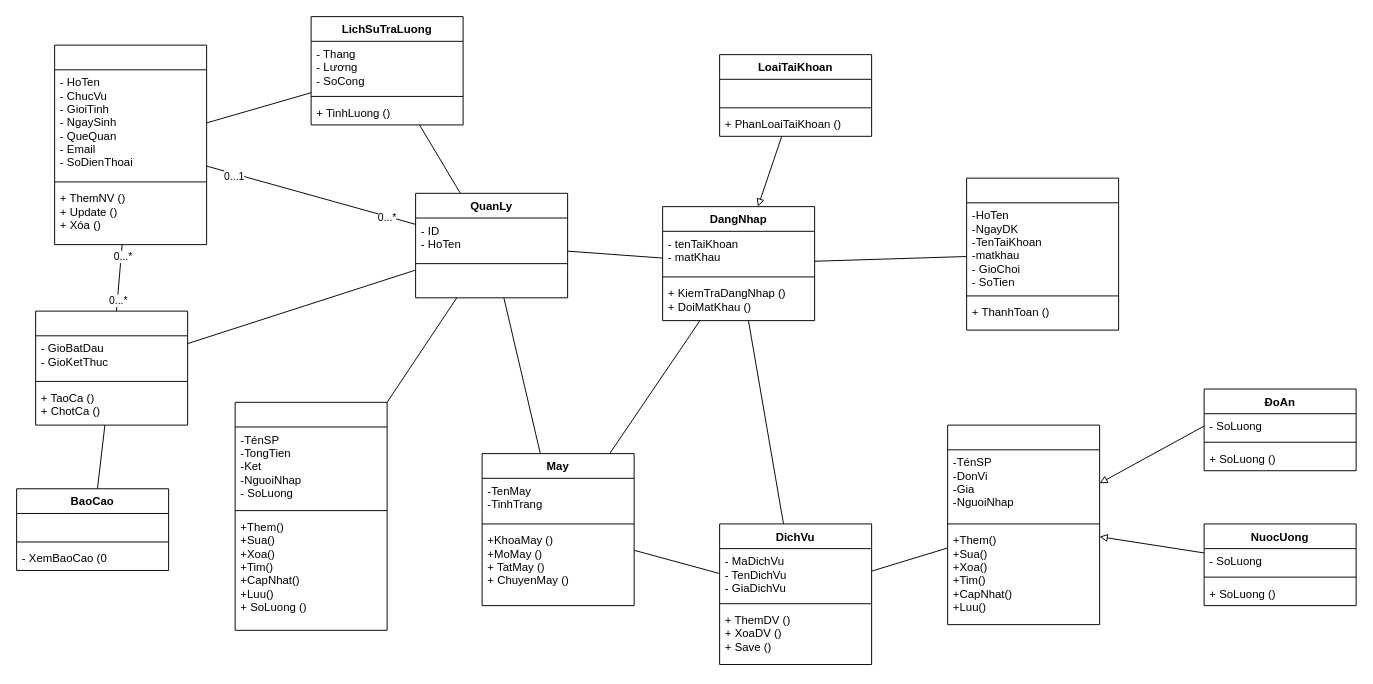
This 1373x684 diagram has some shape labels left out. Here are the shapes that lost their labels. From the top down, the box of each, then its label:
(54, 44, 207, 245): NhanVien
(966, 177, 1119, 330): KhachHang
(35, 310, 188, 425): Ca
(234, 401, 387, 630): SanPham
(947, 424, 1100, 625): QuanLyGia
